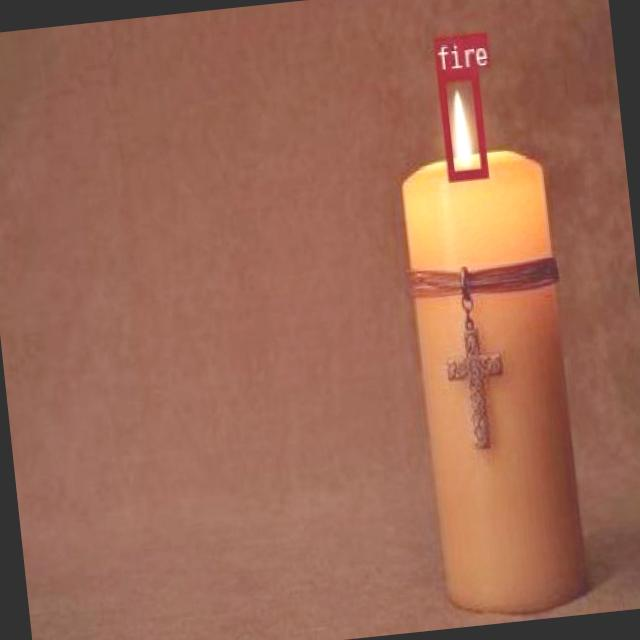fire: (436, 65, 487, 178)
